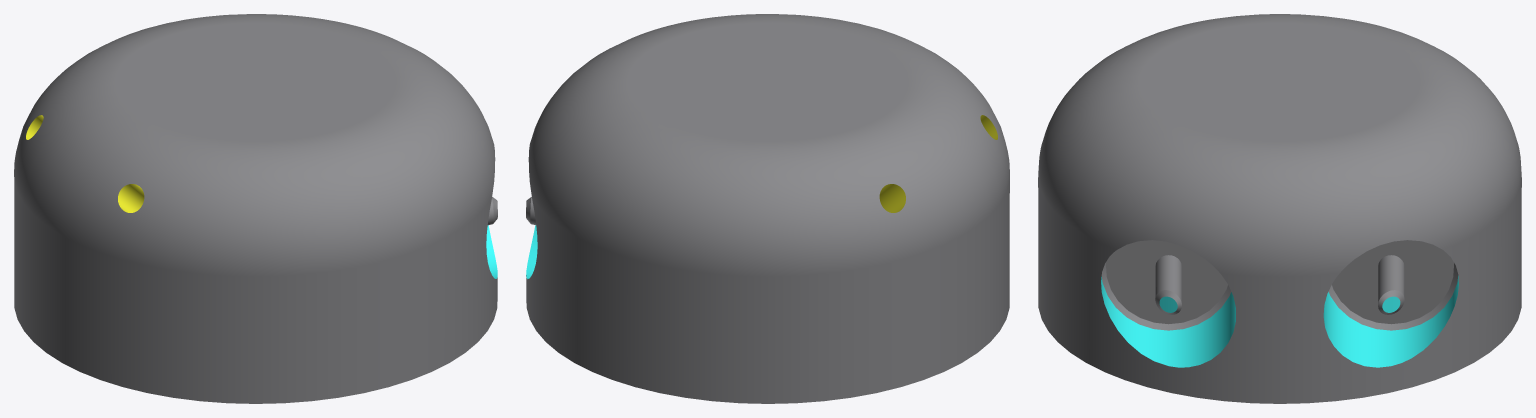
Rendered from head.gltf.
3 views of the same model, side by side, from view 1: azimuth 30°, elevation 25°; view 2: azimuth 150°, elevation 25°; view 3: azimuth 270°, elevation 25° (orthographic).
Parts seen in each view (by area): view 1: Head; view 2: Head; view 3: Head.
Boxes of the visible parts, x1,y1,x2,y2 form: Head: (14, 14, 497, 403); Head: (526, 14, 1009, 403); Head: (1038, 14, 1521, 403).
Size of the model in its own units: 1 by 0.5 by 0.9995.
